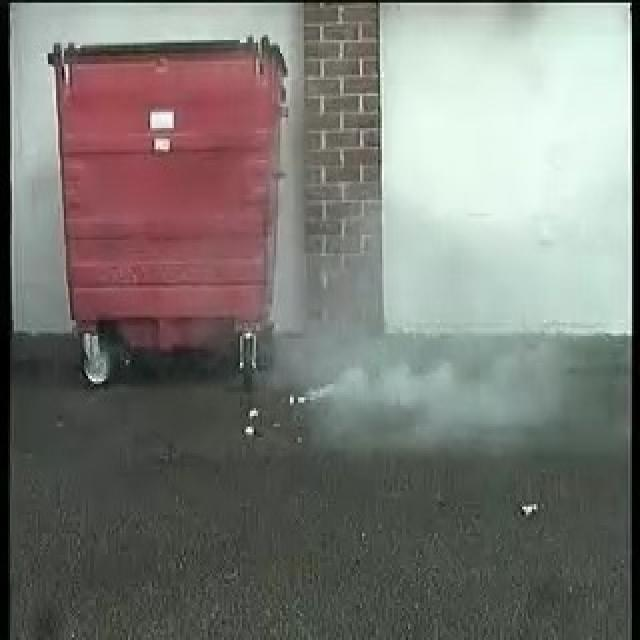smoke: (277, 222, 458, 450)
